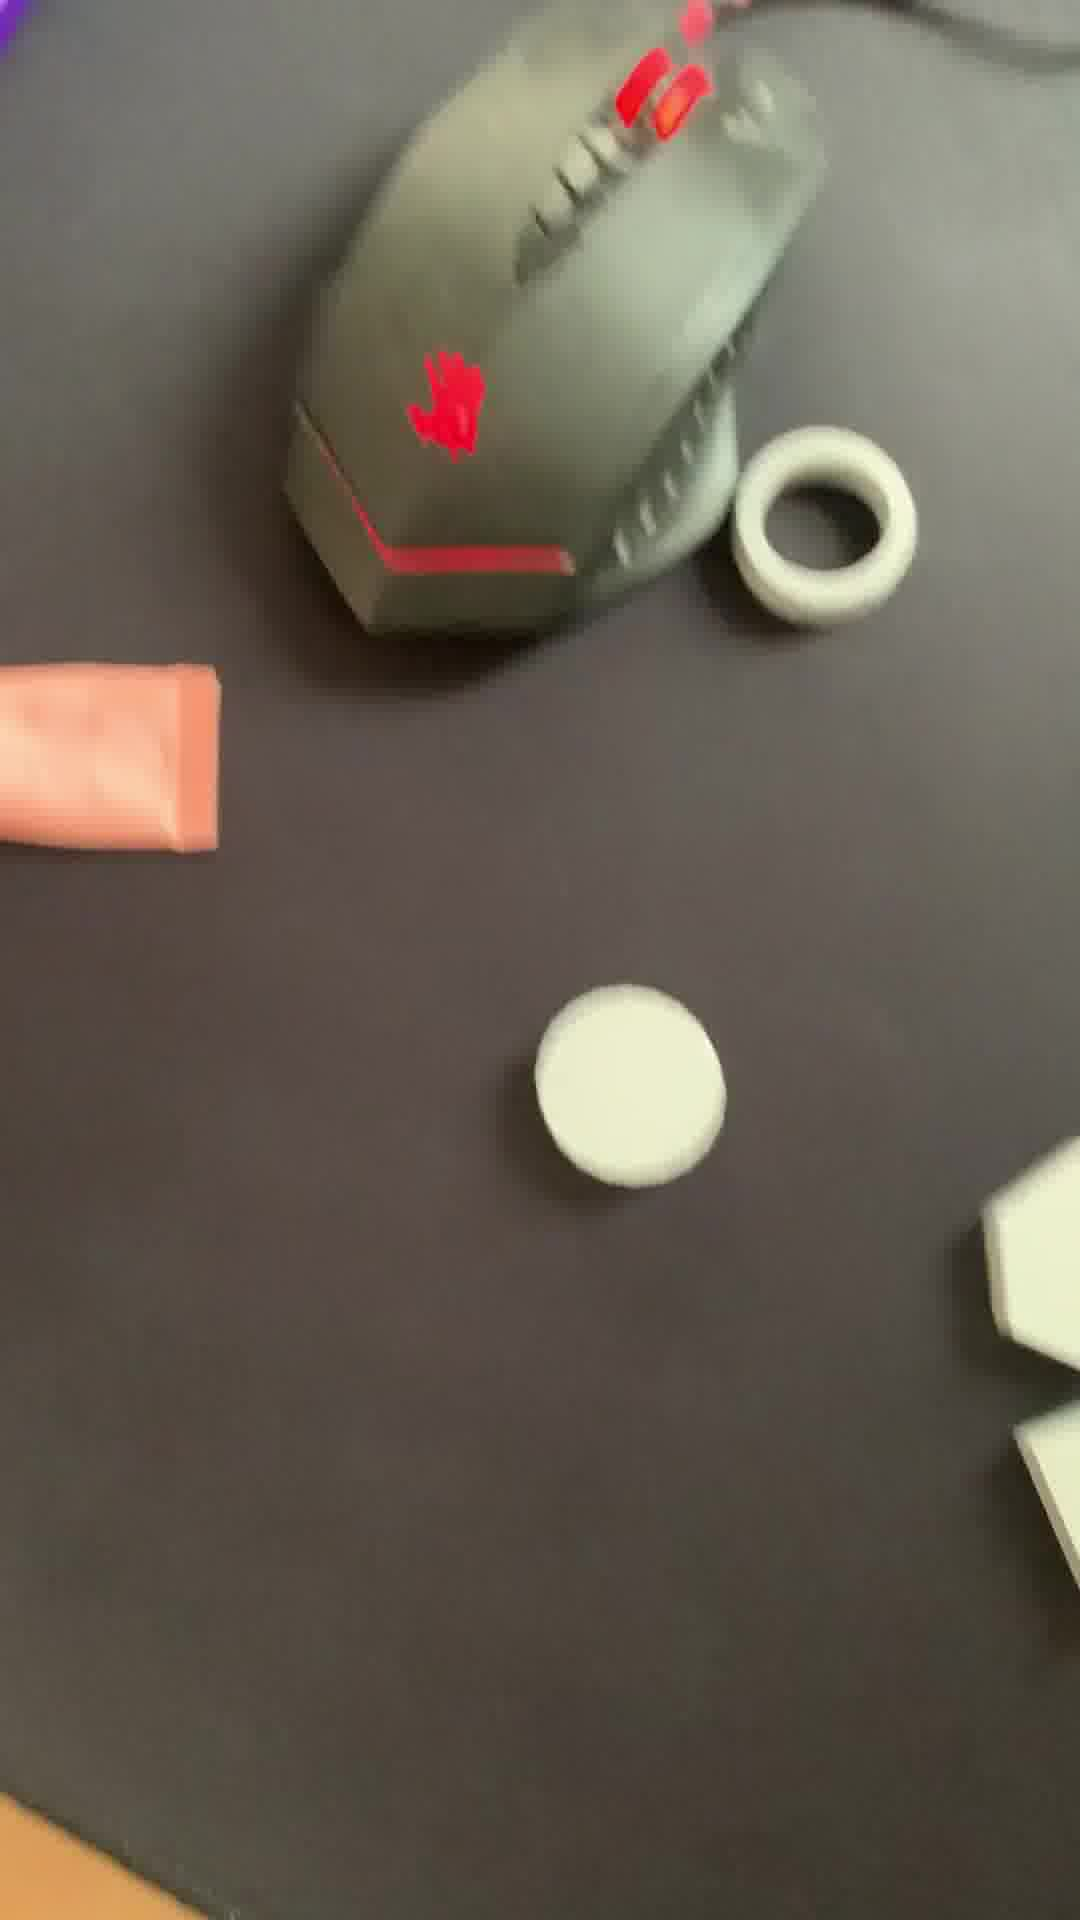Gray circle: (524, 977, 729, 1201)
Gray hexagon: (960, 1133, 1080, 1375)
Gray ring: (741, 426, 911, 622)
